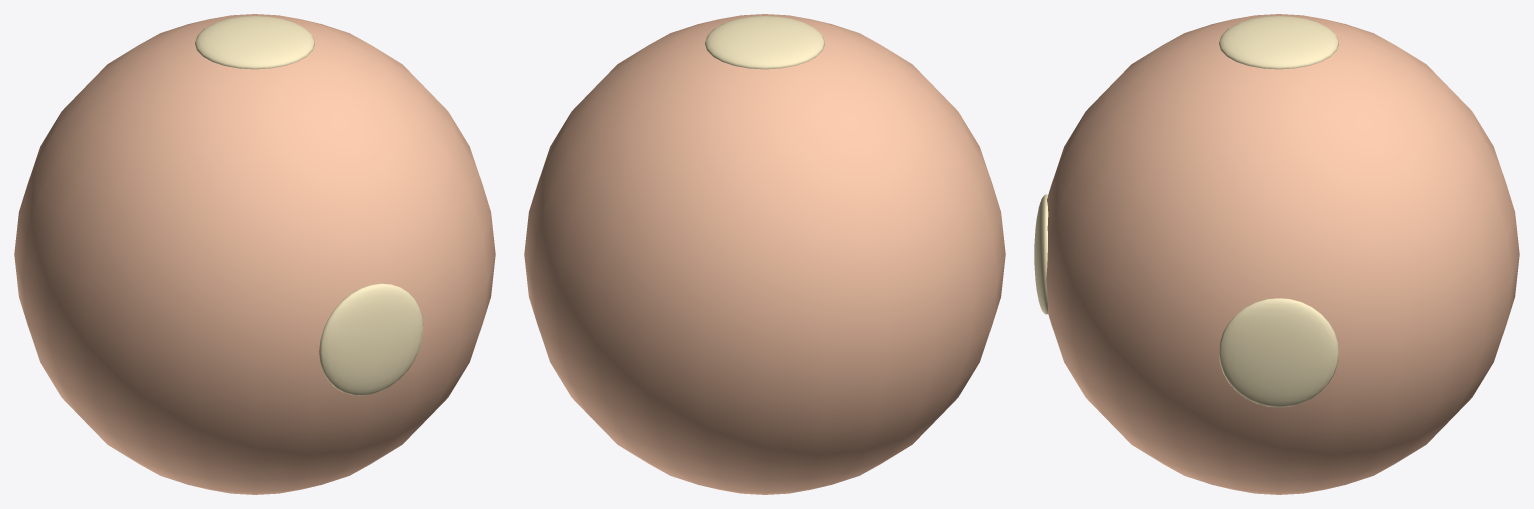
Rendered from ball.glb.
3 renders of one model, left to right at view 1: azimuth 30°, elevation 25°; view 2: azimuth 150°, elevation 25°; view 3: azimuth 270°, elevation 25°, orthographic.
Parts seen in each view (by area): view 1: Ball, Spot (×2); view 2: Ball, Spot; view 3: Ball, Spot (×3).
Boxes of the visible parts, box(x1,y1,x2,y2) form: Ball: box(14, 14, 495, 494); Spot (×2): box(195, 16, 423, 395); Ball: box(524, 14, 1005, 494); Spot: box(705, 16, 824, 69); Ball: box(1046, 14, 1519, 494); Spot (×3): box(1034, 16, 1338, 407).
Bounding box in the file's own units: 0.121 × 0.121 × 0.121.
